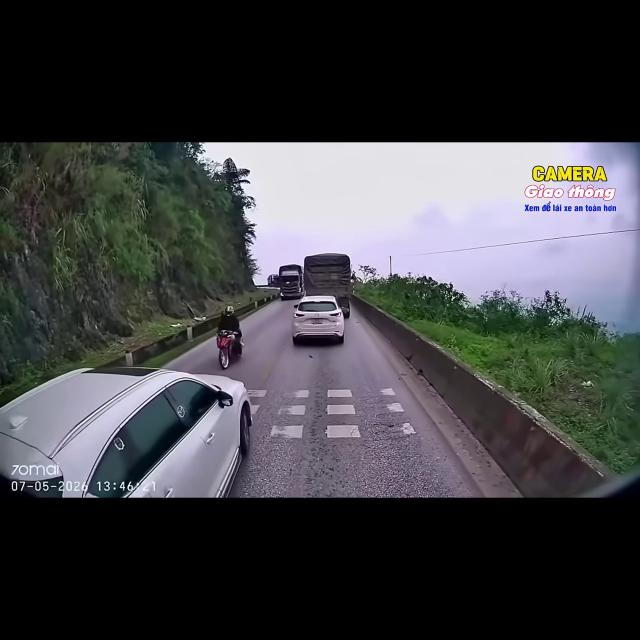car: (0, 367, 252, 497), (292, 296, 344, 344)
motorcycle: (217, 330, 241, 369)
truck: (304, 253, 353, 318), (278, 264, 305, 300), (268, 274, 278, 286)
